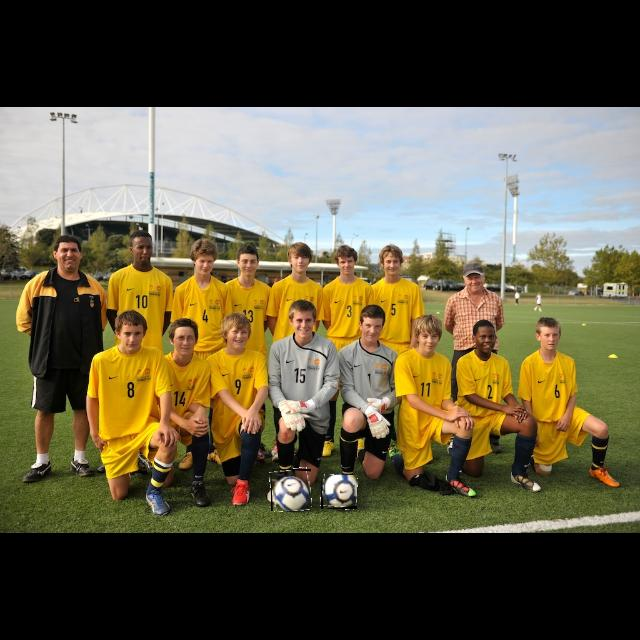Football: (271, 469, 311, 511), (321, 475, 357, 509)
